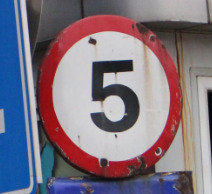speed_limit_5: (38, 15, 183, 178)
